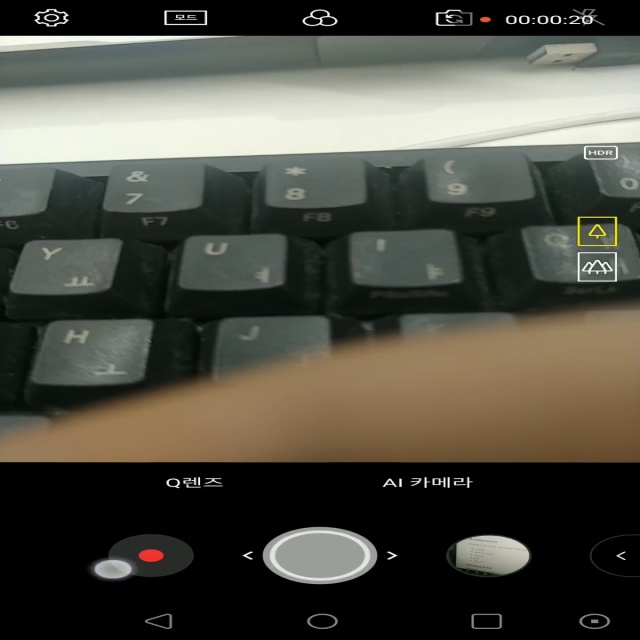Cursor: (92, 559, 136, 581)
